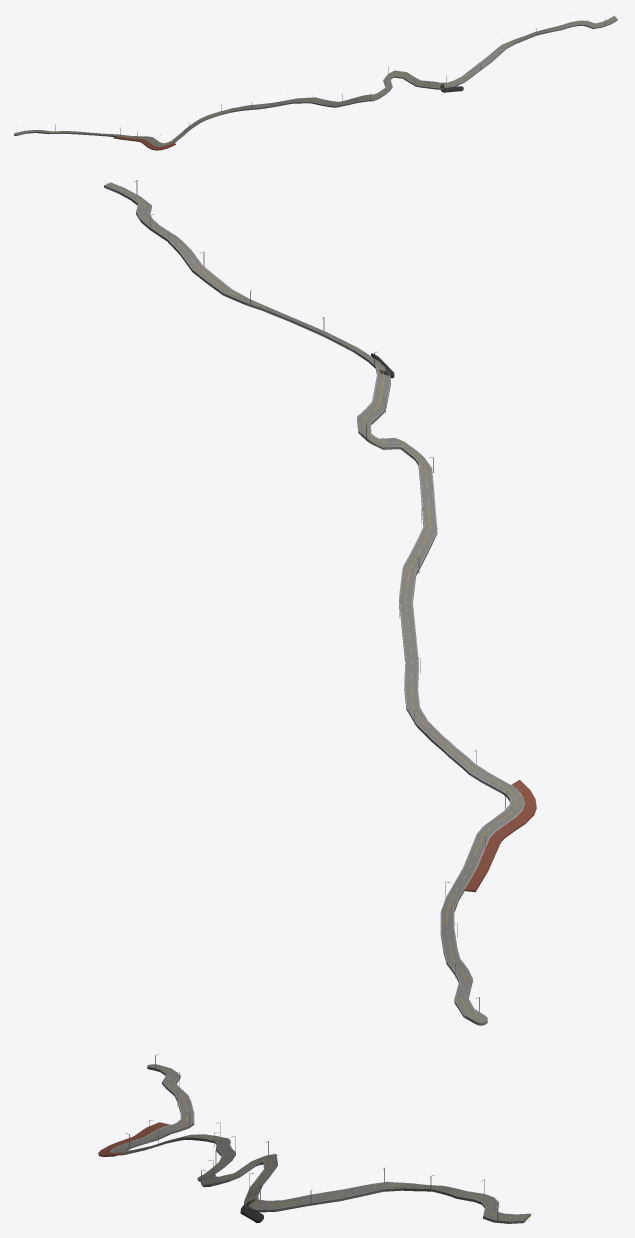
3 renders of one model, top to bottom at view 1: azimuth 30°, elevation 25°; view 2: azimuth 150°, elevation 25°; view 3: azimuth 330°, elevation 25°, orthographic. The views are drawn at different scales.
Bounding box in the file's own units: 413 × 174 × 376.
